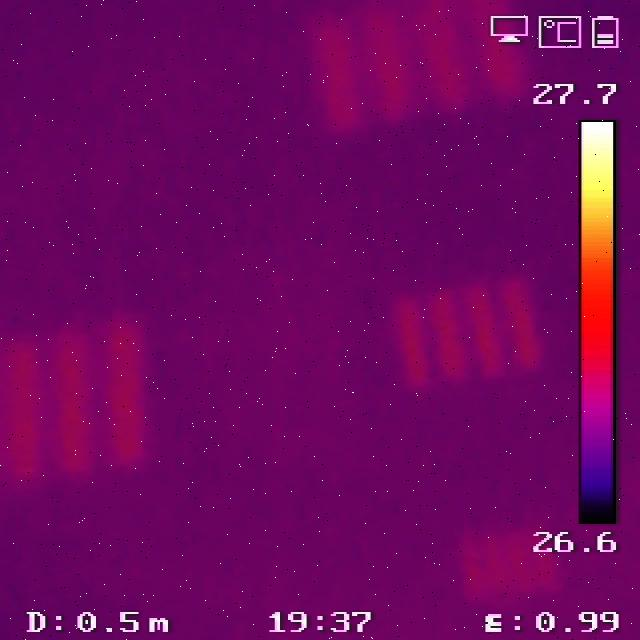Indistinguishable 4-bar target: (457, 532, 548, 601)
threshold 4-bar target: (310, 7, 538, 116), (3, 323, 148, 479), (391, 285, 538, 377)
